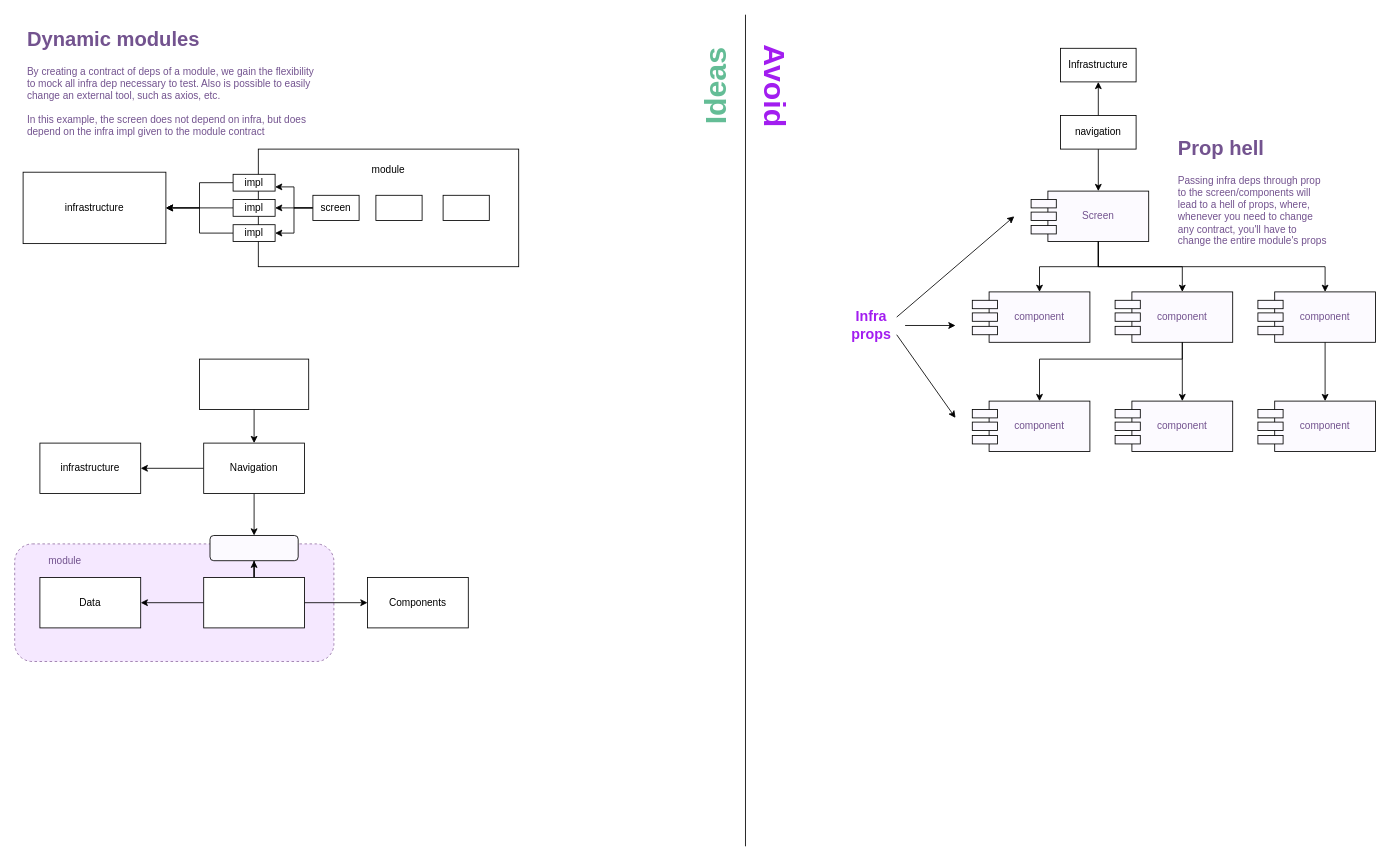
This 1390x862 diagram has some shape labels left out. Each missing label, with the box of its shape:
App: (199, 358, 309, 410)
index: (209, 535, 298, 561)
Presenter: (203, 577, 304, 628)
